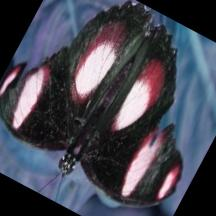butterfly: (0, 1, 182, 207)
